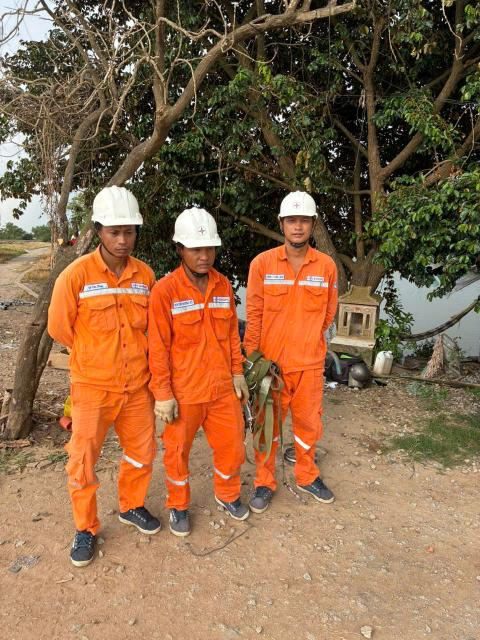gloves: (147, 392, 189, 428), (227, 370, 253, 405)
helmet: (84, 175, 148, 233), (159, 200, 223, 256), (264, 192, 323, 221)
shoes: (57, 511, 109, 566), (115, 493, 162, 539), (294, 467, 340, 511), (154, 498, 198, 539), (212, 487, 248, 529), (239, 480, 277, 518)
